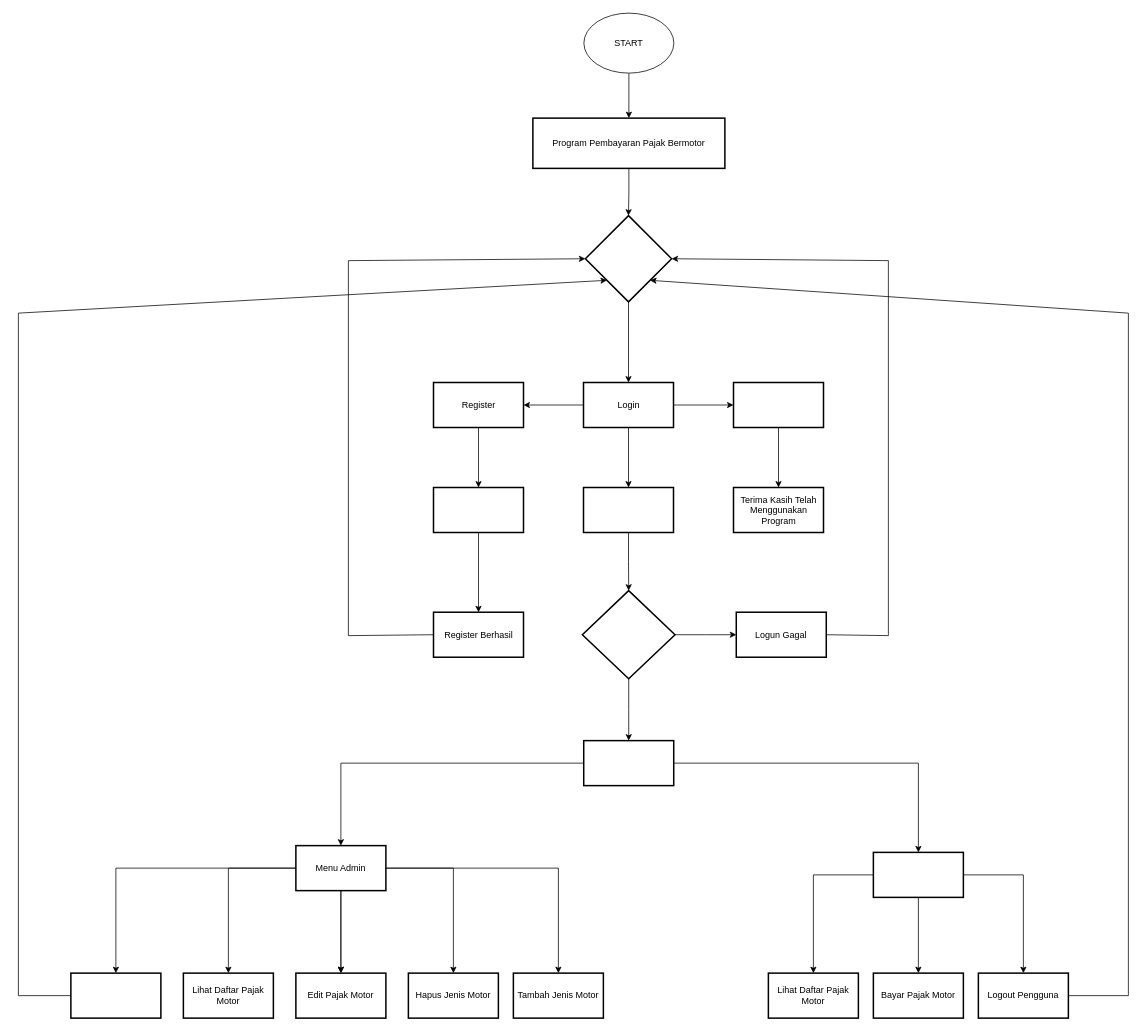
This 1148x1032 diagram has some shape labels left out. Each missing label, with the box of its shape:
Cek Valid: (581, 590, 675, 679)
Input Username & Password: (582, 486, 674, 533)
Input Username & Password Baru: (432, 486, 524, 533)
Login Berhasil: (583, 740, 674, 786)
Logout: (732, 381, 824, 428)
Logout Admin: (70, 972, 161, 1018)
Menu Pengguna: (872, 851, 964, 898)
Pilih Opsi: (584, 214, 672, 302)
